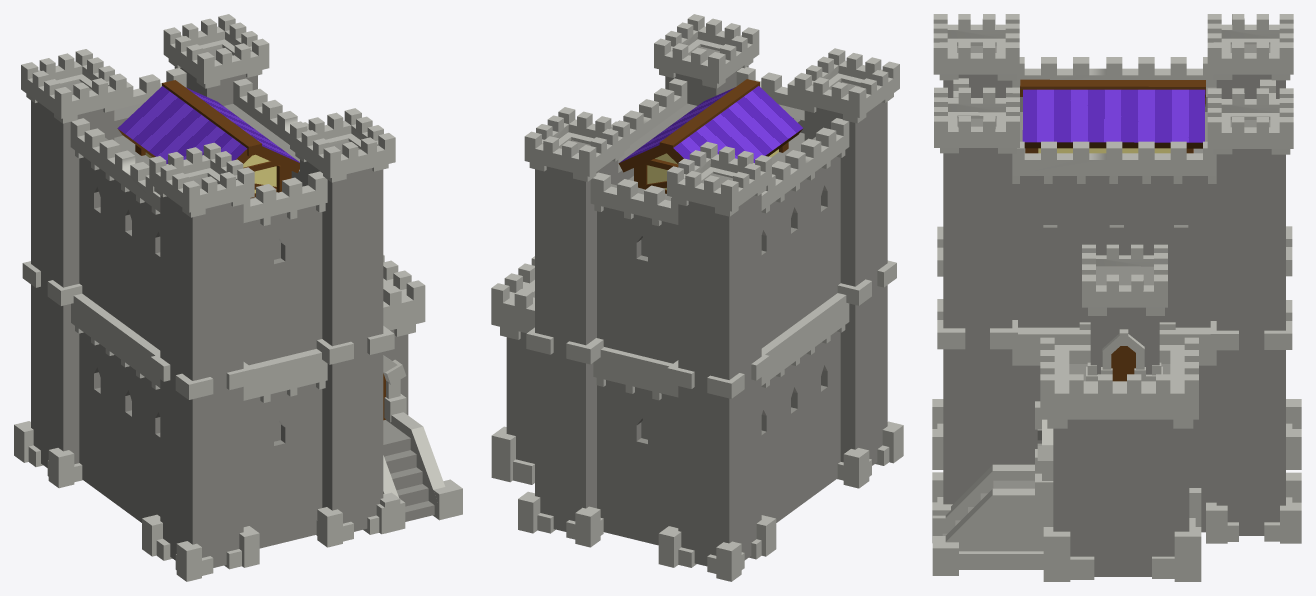
File: Keep.fbx
3 views of the same model, side by side, from view 1: azimuth 30°, elevation 25°; view 2: azimuth 150°, elevation 25°; view 3: azimuth 270°, elevation 25° (orthographic). The views are drawn at different scales.
Visible parts, largest first — view 1: polySurface2; view 2: polySurface2; view 3: polySurface2.
Boxes of the visible parts, x1,y1,x2,y2 form: polySurface2: (14, 14, 462, 581); polySurface2: (491, 14, 903, 581); polySurface2: (932, 14, 1301, 581).
Size of the model in its own units: 247 by 321 by 256.
Materials: 1 (1 with a texture image).
